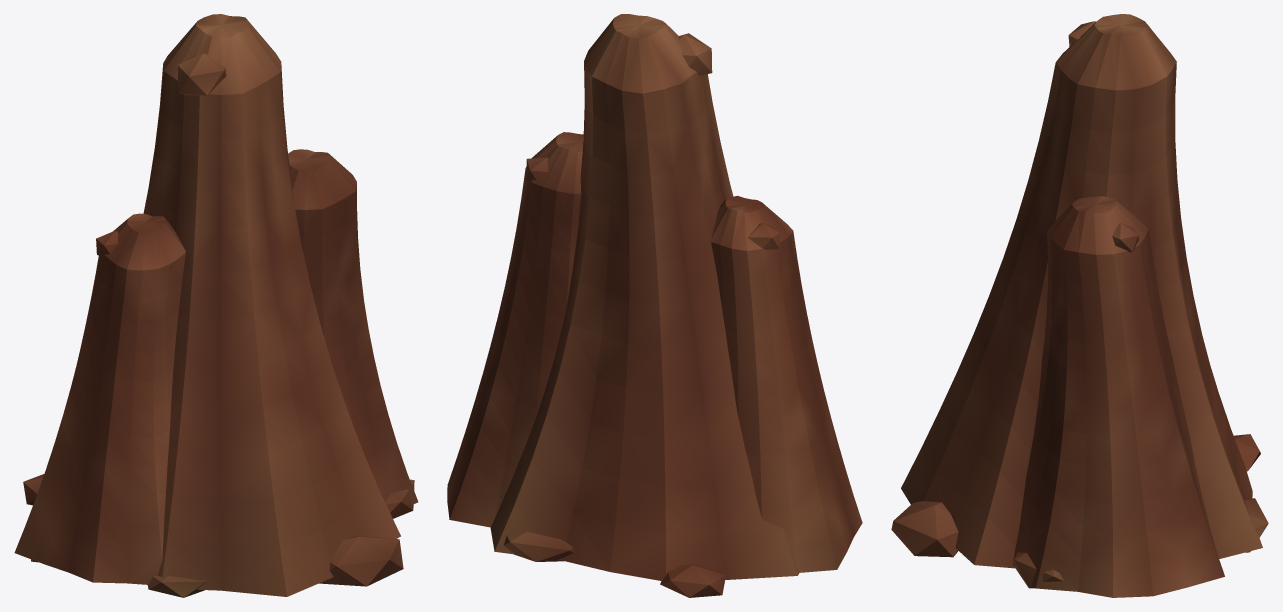
Rendered from termite_mound_a.glb.
3 views of the same model, side by side, from view 1: azimuth 30°, elevation 25°; view 2: azimuth 150°, elevation 25°; view 3: azimuth 270°, elevation 25° (orthographic).
Visible parts, largest first — view 1: termite_mound_a; view 2: termite_mound_a; view 3: termite_mound_a.
Part boxes in pixels (<box>): termite_mound_a: <box>14,14,418,597</box>; termite_mound_a: <box>447,14,862,597</box>; termite_mound_a: <box>891,14,1268,597</box>.
Bounding box in the file's own units: 2.44 × 3.07 × 2.11.
